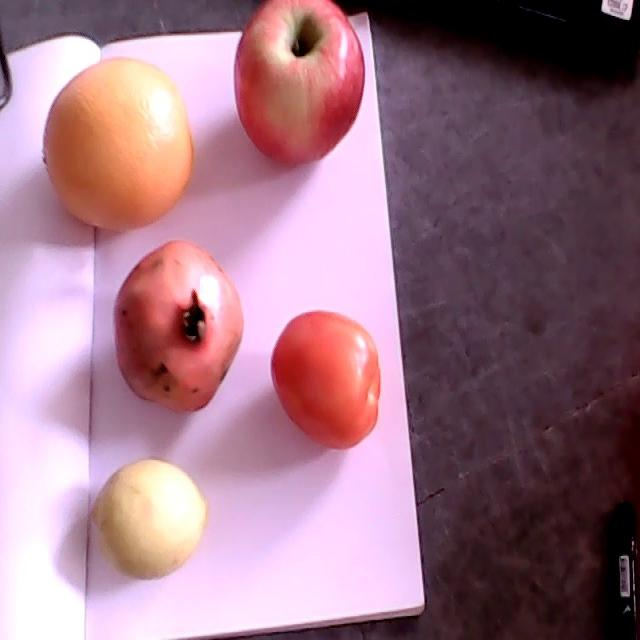apple: (234, 1, 365, 166)
lemon: (89, 460, 208, 578)
orange: (43, 58, 193, 231)
pomegranate: (113, 241, 244, 411)
tomato: (270, 310, 381, 448)
